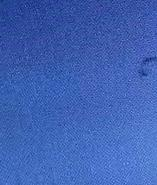knot: (136, 55, 156, 81)
